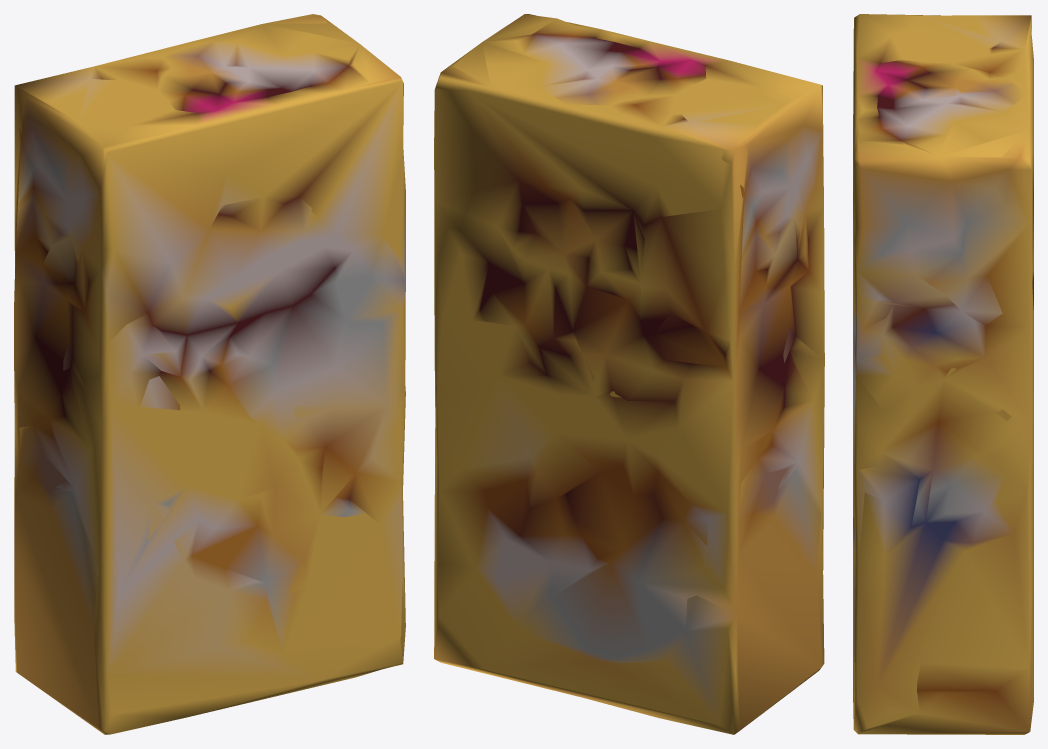
The model's file is gen3d-cereal-box-lod1.glb.
3 renders of one model, left to right at view 1: azimuth 30°, elevation 25°; view 2: azimuth 150°, elevation 25°; view 3: azimuth 270°, elevation 25°, orthographic. The views are drawn at different scales.
Parts seen in each view (by area): view 1: part_0; view 2: part_0; view 3: part_0.
Boxes of the visible parts, <box> form: part_0: <box>14,14,405,734</box>; part_0: <box>434,14,824,734</box>; part_0: <box>853,14,1033,734</box>.
Bounding box in the file's own units: 0.538 × 0.9999 × 0.2823.
